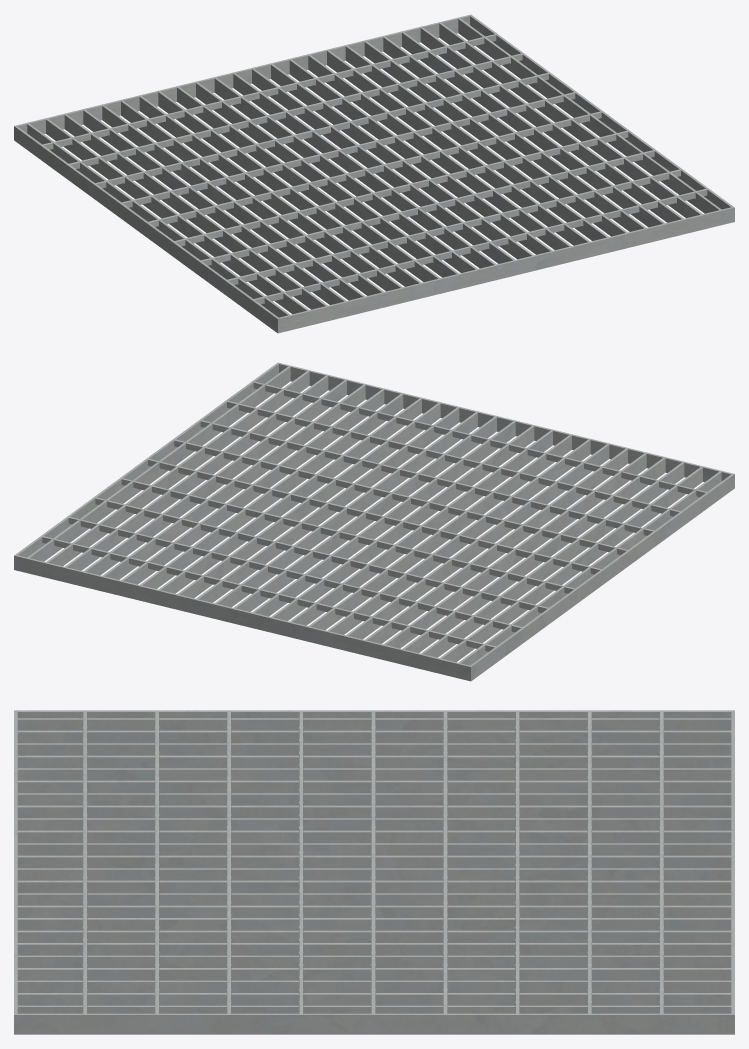
Rendered from 1000-x-1000-ms-grating.glb.
The picture shows the model from 3 angles, top to bottom: view 1: azimuth 30°, elevation 25°; view 2: azimuth 150°, elevation 25°; view 3: azimuth 270°, elevation 25°; orthographic projection. The views are drawn at different scales.
Visible parts, largest first — view 1: Boss-Extrude3[3]_high; view 2: Boss-Extrude3[3]_high; view 3: Boss-Extrude3[3]_high.
Part boxes in pixels (box(x1,y1,x2,y2)): Boss-Extrude3[3]_high: box(14, 14, 734, 333); Boss-Extrude3[3]_high: box(14, 362, 734, 681); Boss-Extrude3[3]_high: box(14, 710, 734, 1034).
Size of the model in its own units: 1 by 0.03 by 1.
1 material, 1 textured.
